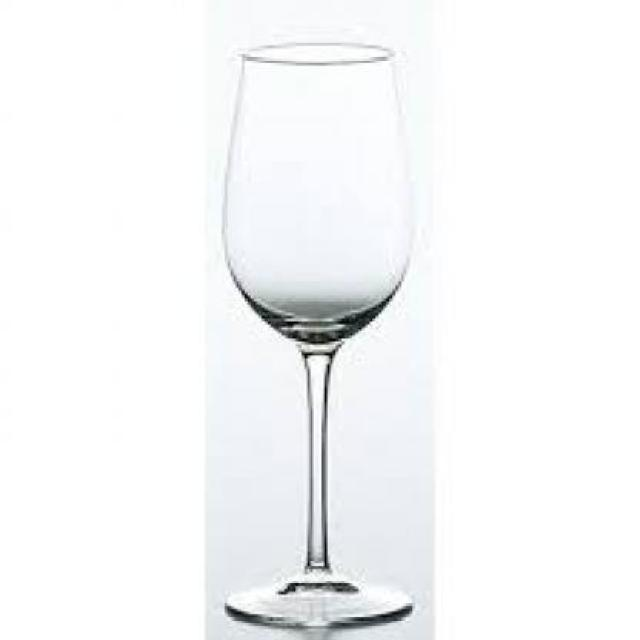kaca: (220, 40, 411, 628)
